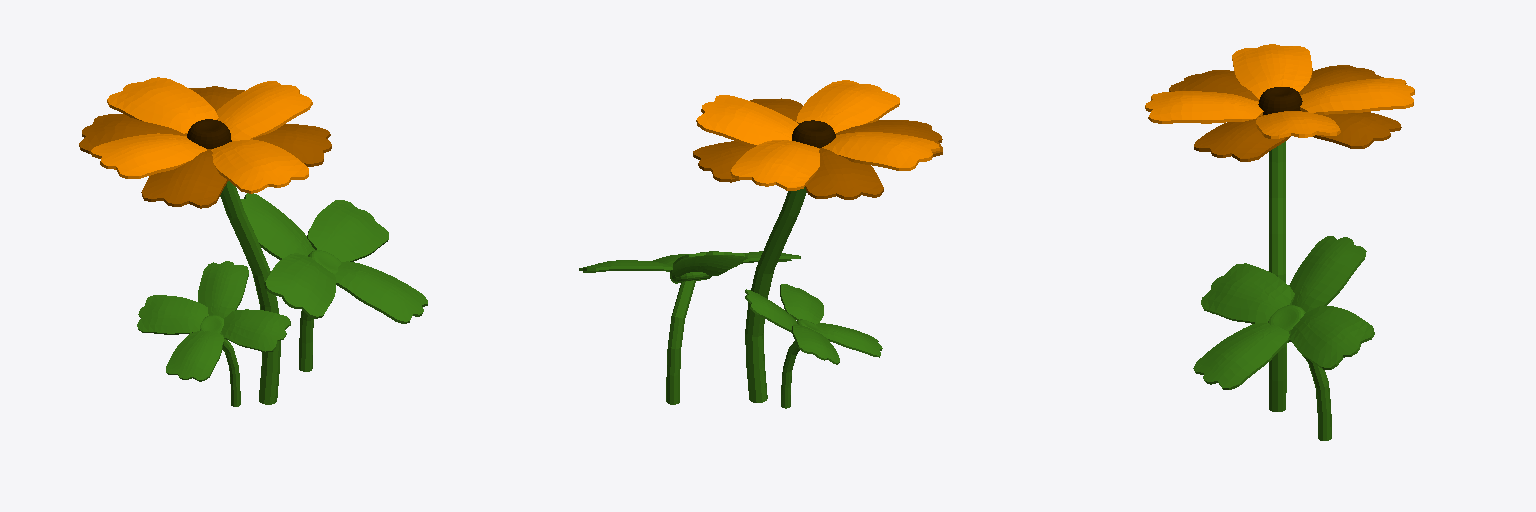
The model's file is FlowerOBJ.obj.
The picture shows the model from 3 angles: view 1: azimuth 30°, elevation 25°; view 2: azimuth 150°, elevation 25°; view 3: azimuth 270°, elevation 25°; orthographic projection.
Visible parts, largest first — view 1: pCube14, pCube11, pCube6 pCube5, pCube1 pCube6, pCube7, pCube6 pCube3, pCylinder8, pCube6 pCube2, pCube6 pCube8, pCube6 pCube4, pCube6 pSphere1, pCylinder9 (+1 smaller); view 2: pCube14, pCube11, pCylinder8, pCube1 pCube6, pCube7, pCube6 pCube5, pCube6 pCube3, pCube6 pCube4, pCube6, pCube6 pCube2, pCube6 pSphere1, pCylinder9 (+1 smaller); view 3: pCube14, pCube6 pCube5, pCube1 pCube6, pCube6 pCube3, pCylinder8, pCube6 pCube8, pCube6, pCube7, pCube6 pCube2, pCube6 pCube4, pCube6 pSphere1.
Boxes of the visible parts, <box> form: pCube14: <box>241,193,427,371</box>; pCube11: <box>137,261,290,381</box>; pCube6 pCube5: <box>107,77,218,133</box>; pCube1 pCube6: <box>211,139,308,193</box>; pCube7: <box>216,81,312,140</box>; pCube6 pCube3: <box>90,133,206,178</box>; pCylinder8: <box>220,181,280,404</box>; pCube6 pCube2: <box>141,149,227,208</box>; pCube6 pCube8: <box>253,124,331,166</box>; pCube6 pCube4: <box>79,114,186,153</box>; pCube6 pSphere1: <box>187,119,231,148</box>; pCylinder9: <box>222,339,240,406</box>; pCube14: <box>579,251,800,404</box>; pCube11: <box>745,284,882,364</box>; pCylinder8: <box>745,187,806,402</box>; pCube1 pCube6: <box>796,80,899,133</box>; pCube7: <box>696,95,798,144</box>; pCube6 pCube5: <box>730,140,819,190</box>; pCube6 pCube3: <box>822,132,939,170</box>; pCube6 pCube4: <box>805,148,883,199</box>; pCube6: <box>693,141,756,182</box>; pCube6 pCube2: <box>836,120,942,156</box>; pCube6 pSphere1: <box>792,120,835,147</box>; pCylinder9: <box>781,341,799,408</box>; pCube14: <box>1193,236,1374,440</box>; pCube6 pCube5: <box>1300,78,1414,114</box>; pCube1 pCube6: <box>1145,91,1263,123</box>; pCube6 pCube3: <box>1232,44,1312,98</box>; pCylinder8: <box>1269,141,1285,411</box>; pCube6 pCube8: <box>1194,115,1290,161</box>; pCube6: <box>1302,111,1401,148</box>; pCube7: <box>1256,111,1340,138</box>; pCube6 pCube2: <box>1169,70,1259,101</box>; pCube6 pCube4: <box>1299,65,1383,95</box>; pCube6 pSphere1: <box>1258,87,1302,114</box>.
Size of the model in its own units: 16.19 by 14.39 by 11.93.